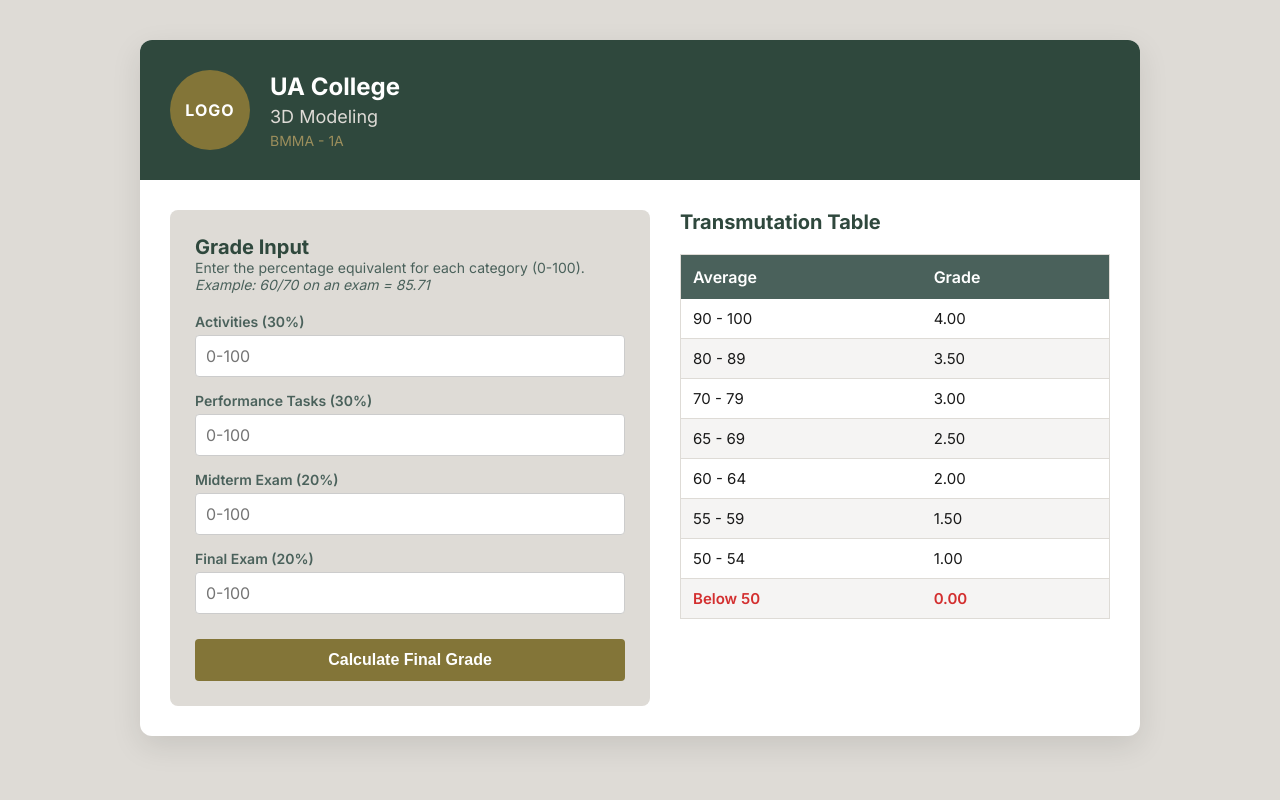
Test case: Gradebook App Component › calculates correct weighted average and transmuted grade via UI
Type "90" into the number field named "activities" at [410, 356], box [195,335,625,377]
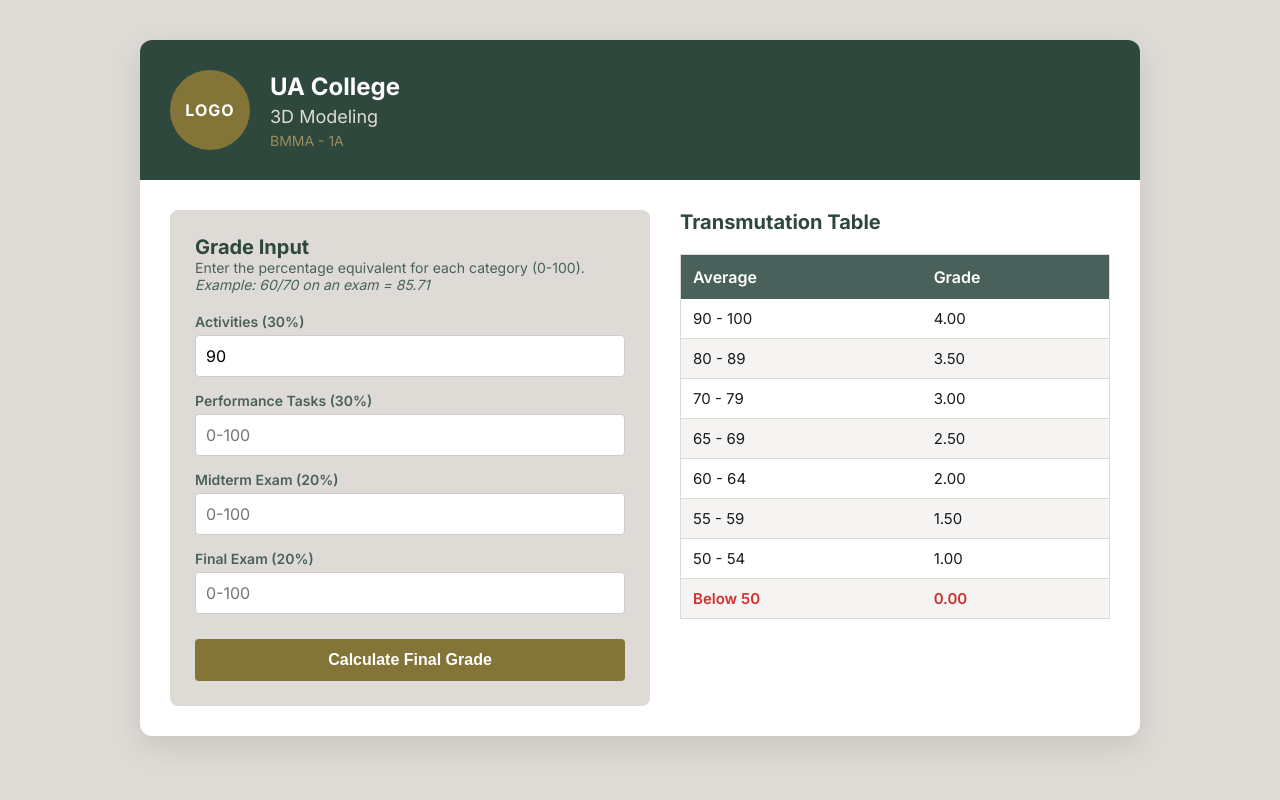
Type "90" into the number field named "performance" at [410, 435], box [195,414,625,456]
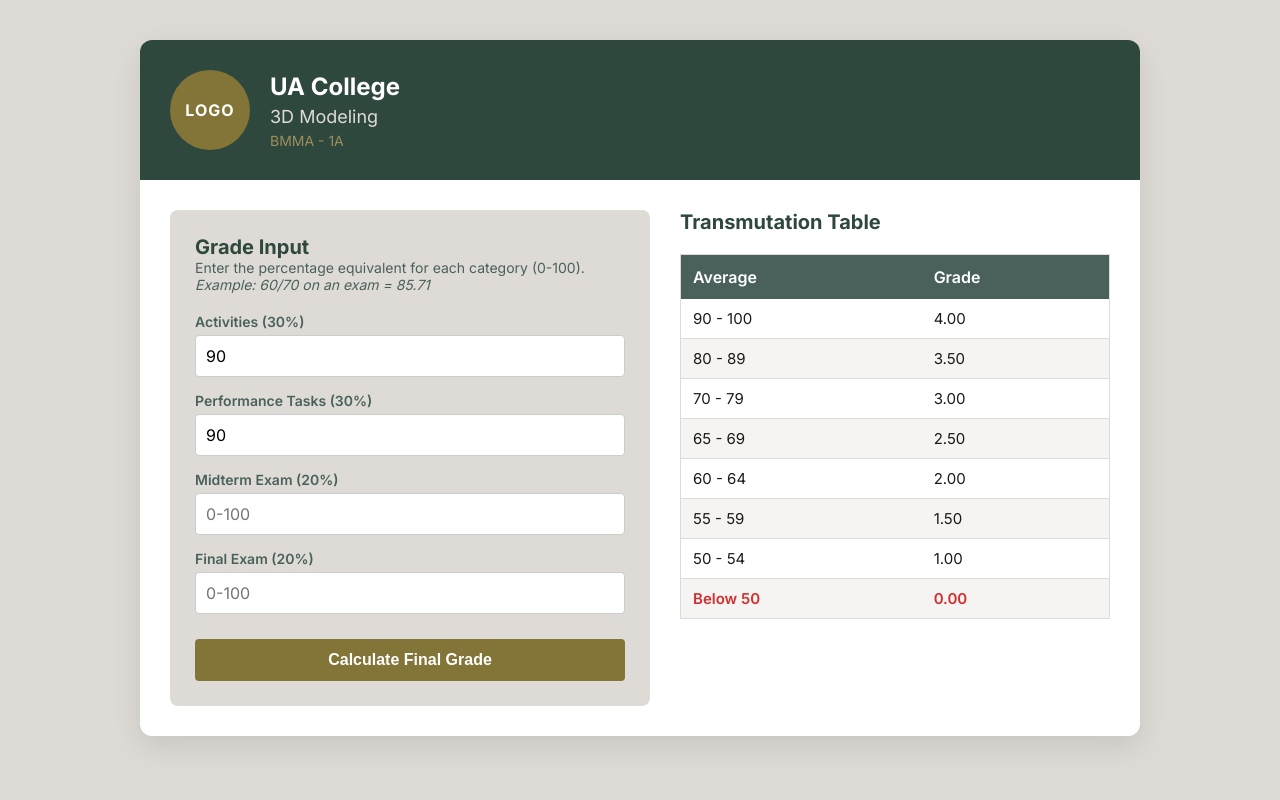
Type "90" into the number field named "midterm" at [410, 514], box [195,493,625,535]
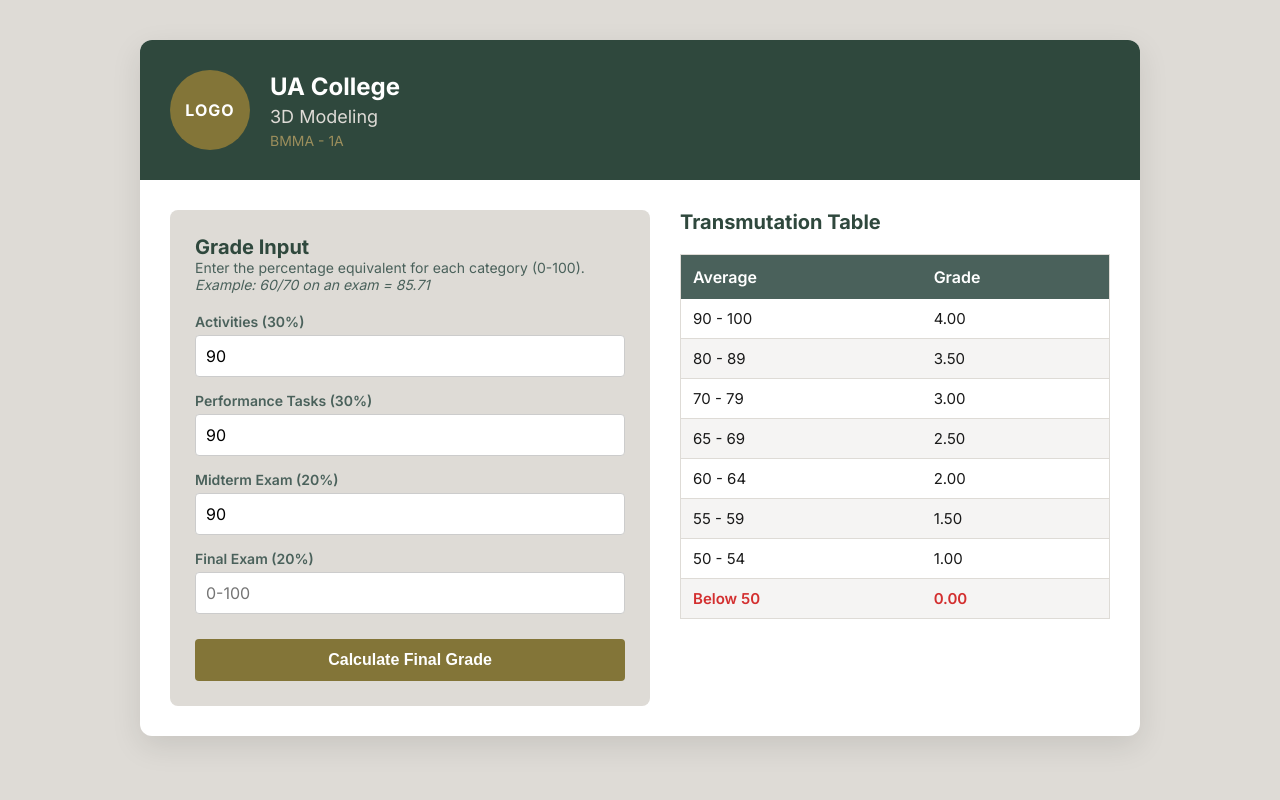
Type "90" into the number field named "finals" at [410, 593], box [195,572,625,614]
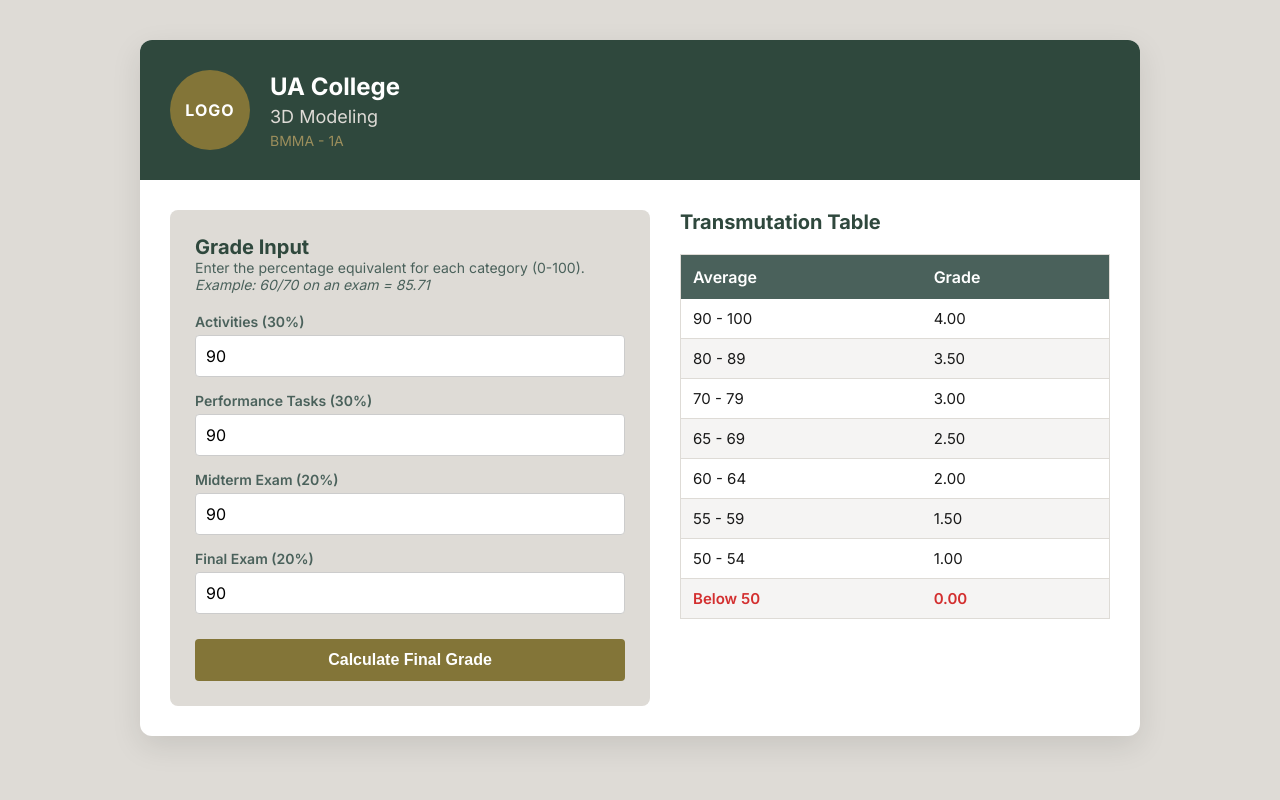
Click the button "Calculate Final Grade" at [410, 660], box [195,639,625,681]
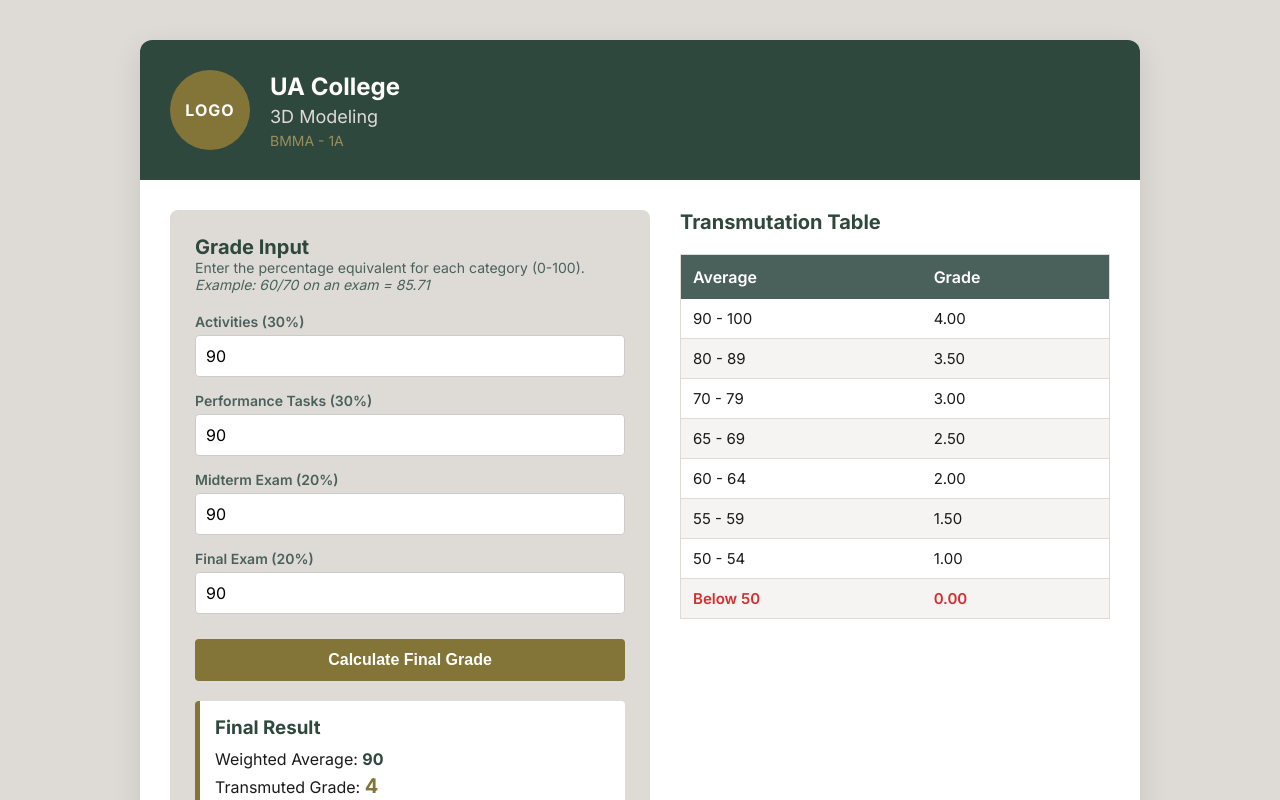
Check: the text "Weighted Average: 90" is shown, box [215,749,384,769]
Check: the text "90" is shown, box [362,749,384,769]
Check: the text "4" is shown, box [365,774,378,798]
